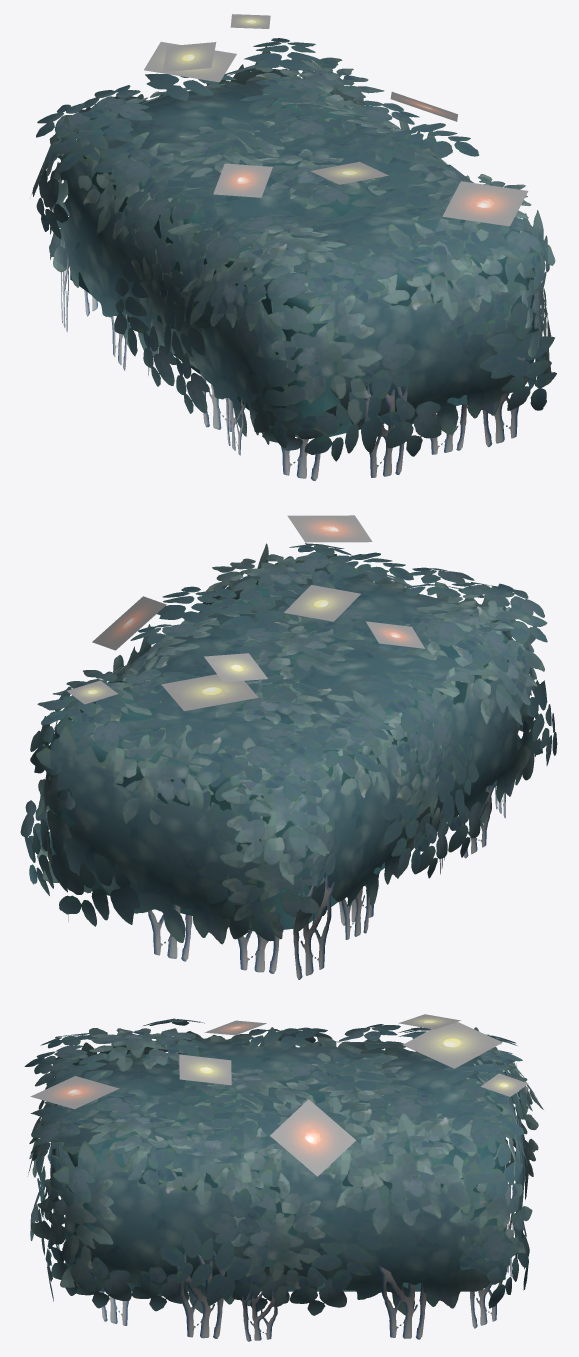
The model's file is pref_sm_beach_winter_techvegetation01_lv3.fbx.
3 renders of one model, top to bottom at view 1: azimuth 30°, elevation 25°; view 2: azimuth 150°, elevation 25°; view 3: azimuth 270°, elevation 25°, orthographic. The views are drawn at different scales.
Parts seen in each view (by area): view 1: pref_sm_beach_winter_techvegetation01_lv3, sm_beach_winter_techvegetation01b_lv3; view 2: pref_sm_beach_winter_techvegetation01_lv3, sm_beach_winter_techvegetation01b_lv3; view 3: pref_sm_beach_winter_techvegetation01_lv3, sm_beach_winter_techvegetation01b_lv3.
Part boxes in pixels (<box>): pref_sm_beach_winter_techvegetation01_lv3: <box>31,38,556,480</box>; sm_beach_winter_techvegetation01b_lv3: <box>144,14,528,226</box>; pref_sm_beach_winter_techvegetation01_lv3: <box>20,543,557,979</box>; sm_beach_winter_techvegetation01b_lv3: <box>67,515,424,711</box>; pref_sm_beach_winter_techvegetation01_lv3: <box>24,1018,543,1341</box>; sm_beach_winter_techvegetation01b_lv3: <box>30,1014,528,1176</box>.
Size of the model in its own units: 3.09 by 2.2 by 4.39.
